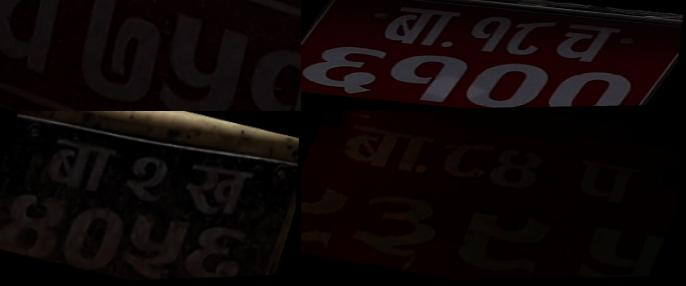0: (454, 58, 564, 109), (41, 132, 114, 197), (540, 67, 650, 108)
1: (370, 48, 483, 106), (454, 11, 522, 56), (121, 150, 170, 206)
3: (345, 186, 452, 265), (228, 41, 301, 111)
4: (181, 218, 253, 280), (486, 144, 550, 194)
5: (571, 223, 669, 280), (0, 186, 67, 262)
6: (139, 8, 262, 111), (301, 39, 404, 97), (119, 209, 190, 282)
7: (62, 0, 180, 111)
8: (494, 15, 562, 60), (435, 137, 498, 182)
9: (450, 205, 560, 281), (0, 0, 82, 82), (301, 178, 356, 250)
ba: (333, 119, 439, 181), (370, 2, 466, 51)
cha: (58, 199, 130, 278), (539, 20, 628, 68)
ja: (180, 158, 248, 223)
pa: (566, 158, 640, 208)
